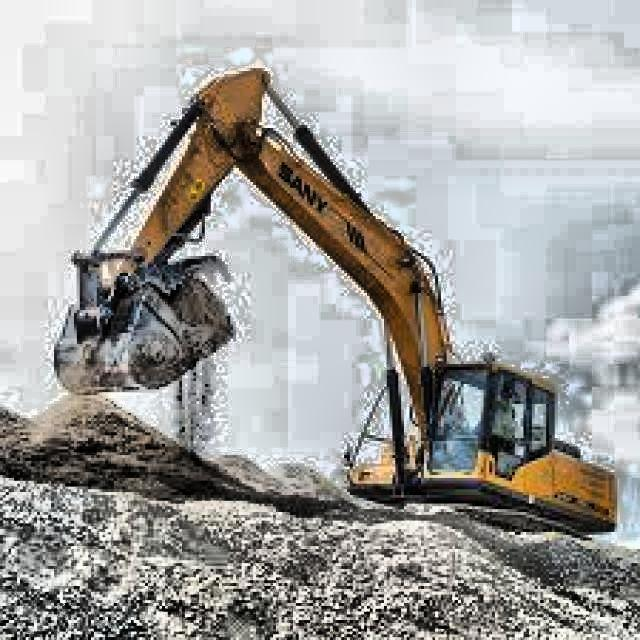bull_dozer/loader/grader: (49, 59, 626, 546)
person: (493, 388, 517, 442)
